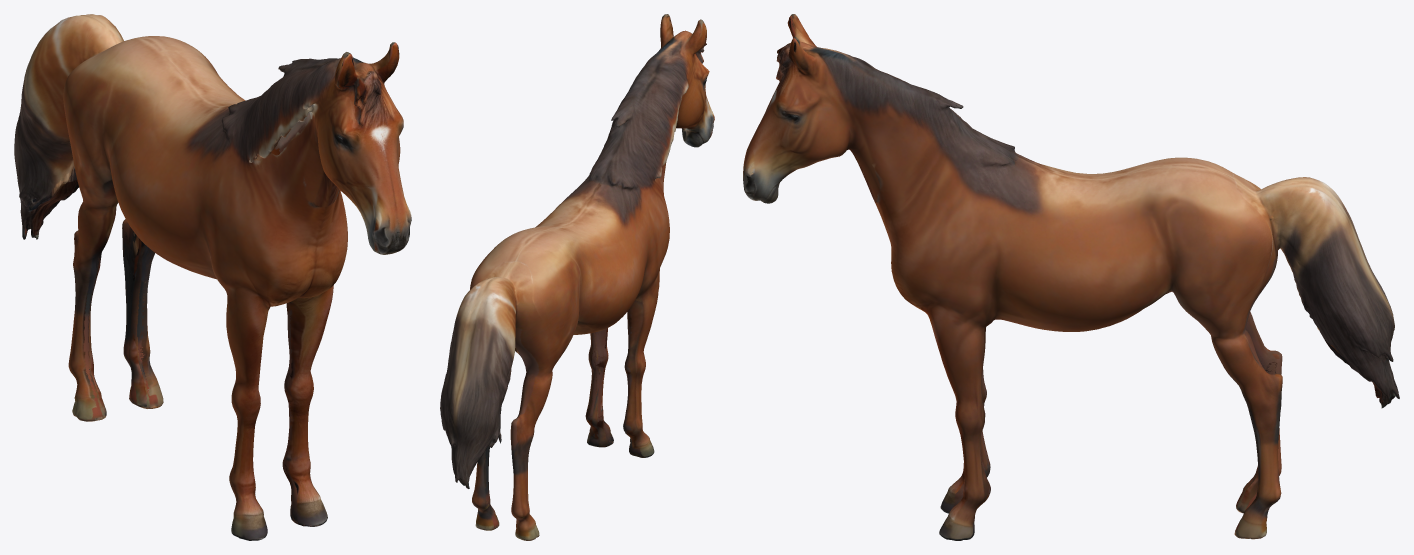
3 renders of one model, left to right at view 1: azimuth 30°, elevation 25°; view 2: azimuth 150°, elevation 25°; view 3: azimuth 270°, elevation 25°, orthographic. The views are drawn at different scales.
Bounding box in the file's own units: 0.5083 × 1.66 × 1.99.
Materials: 1 (1 with a texture image).
